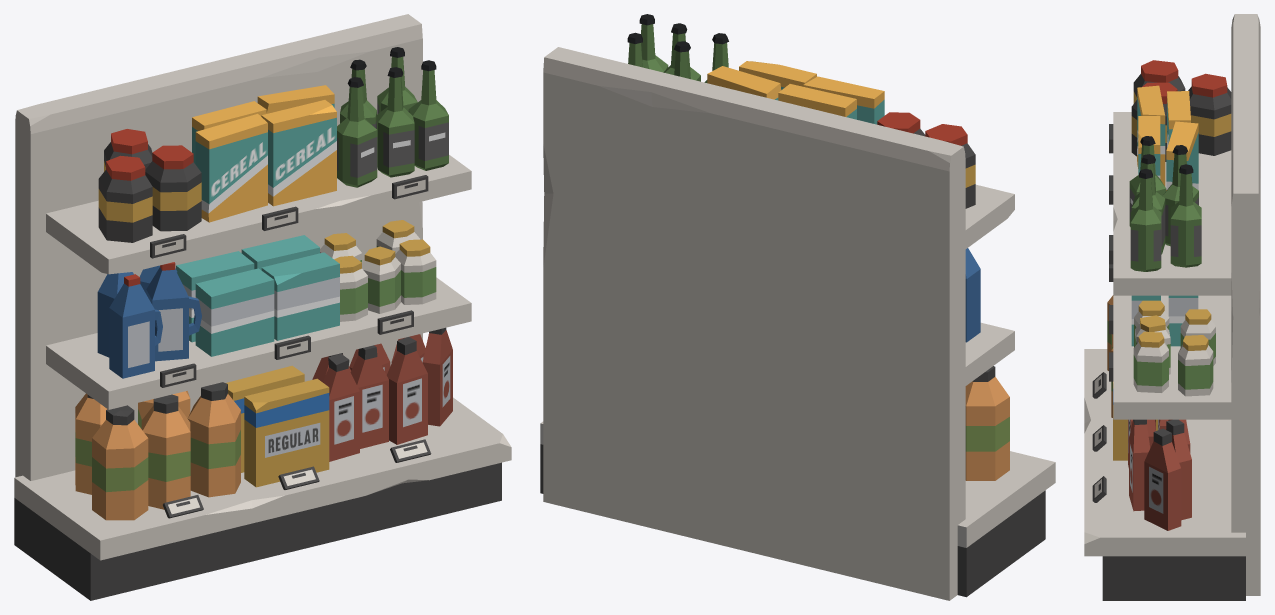
File: SM_Prop_ShopShelf_01.fbx
3 renders of one model, left to right at view 1: azimuth 30°, elevation 25°; view 2: azimuth 150°, elevation 25°; view 3: azimuth 270°, elevation 25°, orthographic. The views are drawn at different scales.
Visible parts, largest first — view 1: SM_Prop_ShopShelf_01; view 2: SM_Prop_ShopShelf_01; view 3: SM_Prop_ShopShelf_01.
Part boxes in pixels (bbox=[...]): SM_Prop_ShopShelf_01: bbox=[14, 14, 511, 600]; SM_Prop_ShopShelf_01: bbox=[540, 14, 1055, 600]; SM_Prop_ShopShelf_01: bbox=[1084, 14, 1260, 600].
Size of the model in its own units: 169 by 170 by 66.79.
